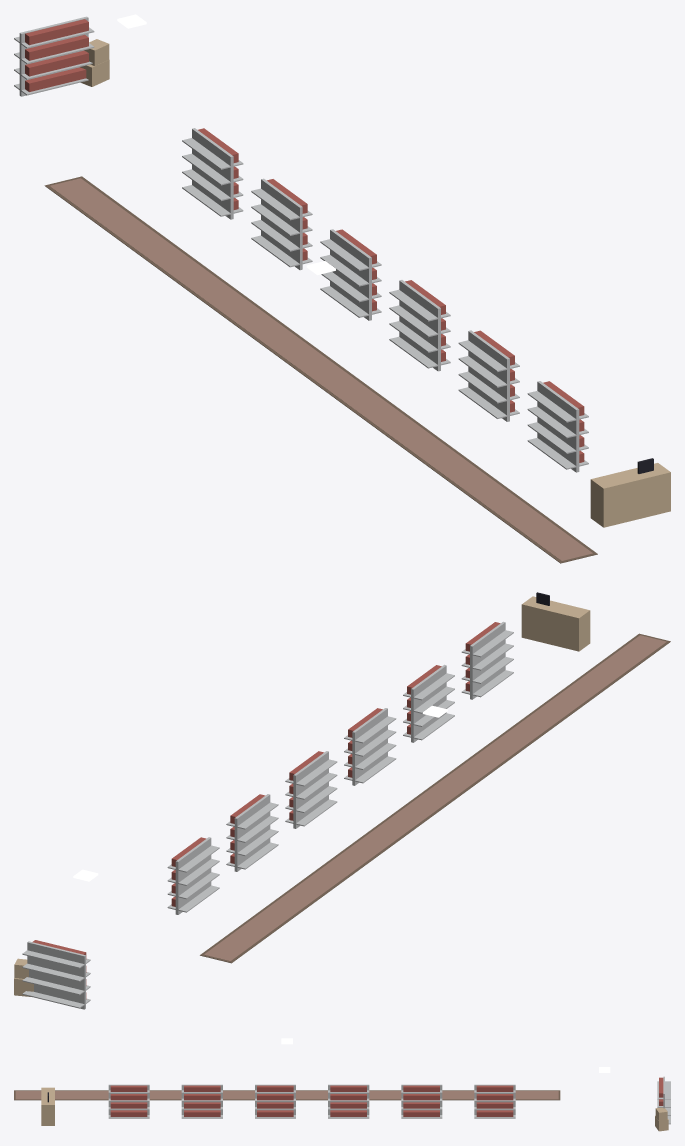
The model's file is fine-s0.glb.
3 renders of one model, top to bottom at view 1: azimuth 30°, elevation 25°; view 2: azimuth 150°, elevation 25°; view 3: azimuth 270°, elevation 25°, orthographic. The views are drawn at different scales.
Parts seen in each view (by area): view 1: soft-s0, shelving.000, shop-counter.000, shelf.005, shelf.001, shelf.003, shelf.000, shelf.004, shelf.002, cardboard-box.000; view 2: soft-s0, shelving.000, shop-counter.000, shelf.001, shelf.000, shelf.005, shelf.002, shelf.003, shelf.004; view 3: soft-s0, shelf.000, shelf.001, shelf.002, shelf.004, shelf.005, shelf.003, shop-counter.000, shelving.000, cardboard-box.000.
Part boxes in pixels (x1,y1,x2,y2): soft-s0: (44, 176, 597, 563); shelving.000: (14, 16, 94, 96); shop-counter.000: (590, 458, 670, 527); shelf.005: (527, 381, 588, 472); shelf.001: (251, 178, 312, 270); shelf.003: (389, 280, 450, 371); shelf.000: (182, 128, 243, 219); shelf.004: (458, 330, 519, 421); shelf.002: (320, 229, 381, 320); cardboard-box.000: (80, 39, 109, 86); soft-s0: (200, 633, 670, 963); shelving.000: (22, 940, 90, 1009); shop-counter.000: (521, 592, 590, 651); shelf.001: (226, 794, 278, 871); shelf.000: (167, 837, 219, 914); shelf.005: (461, 621, 513, 699); shelf.002: (285, 751, 337, 828); shelf.003: (344, 708, 396, 785); shelf.004: (403, 664, 454, 742); soft-s0: (14, 1090, 560, 1100); shelf.000: (474, 1084, 515, 1118); shelf.001: (401, 1084, 442, 1118); shelf.002: (328, 1084, 369, 1118); shelf.004: (181, 1084, 222, 1118); shelf.005: (108, 1084, 149, 1118); shelf.003: (255, 1084, 295, 1118); shop-counter.000: (41, 1087, 54, 1125); shelving.000: (657, 1076, 670, 1124); cardboard-box.000: (655, 1107, 668, 1131).
Bounding box in the file's own units: 4.23 × 2.64 × 28.73.
